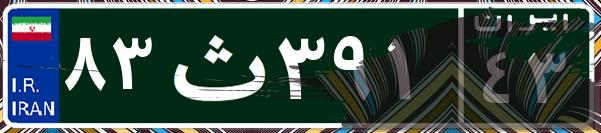1: (385, 28, 445, 110)
3: (273, 28, 330, 110), (110, 28, 158, 105), (525, 38, 570, 115)
4: (475, 38, 525, 113)
8: (57, 26, 110, 107)
9: (330, 28, 385, 110)
ث: (158, 15, 273, 115)
